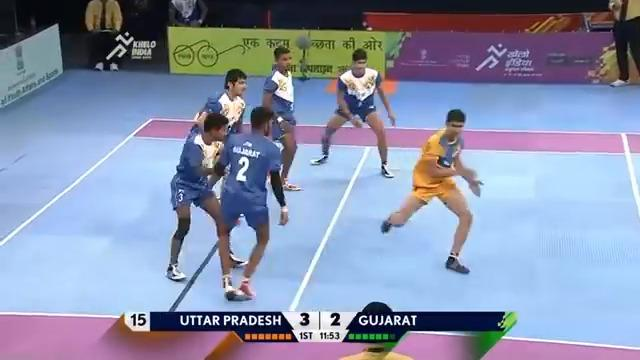Player: (205, 105, 289, 300), (165, 111, 246, 281), (309, 48, 396, 178), (260, 46, 302, 191)
Raider: (380, 108, 483, 274)
referee: (338, 301, 414, 359), (607, 0, 639, 87), (84, 0, 123, 71), (84, 0, 123, 32), (168, 0, 208, 27)
